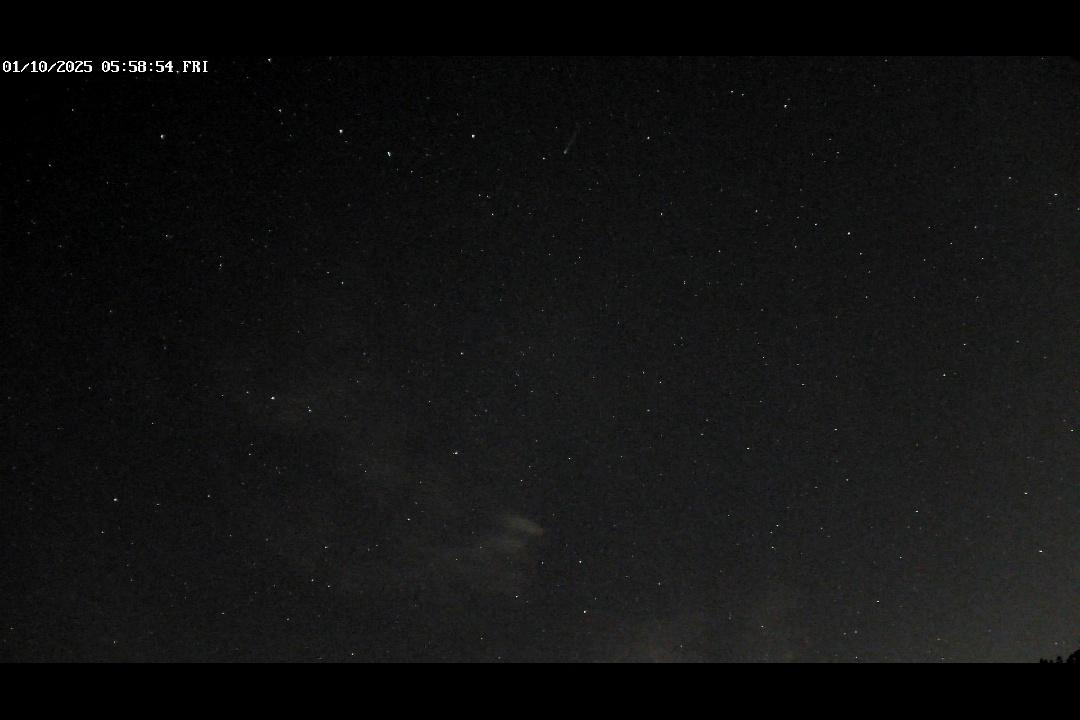Plane: (560, 129, 584, 159)
